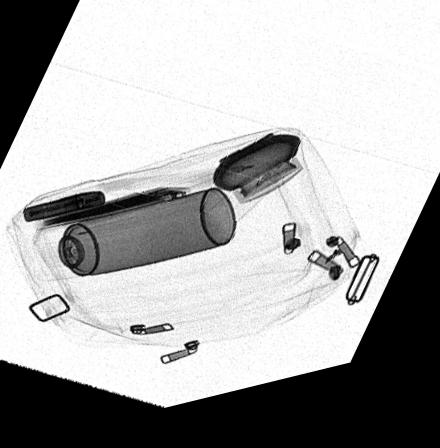Lighter: (23, 196, 105, 224)
Powerbank: (37, 194, 190, 233)
Sprayer: (30, 197, 236, 285)
